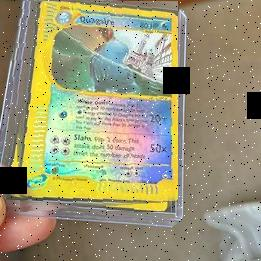card: (19, 1, 178, 202)
